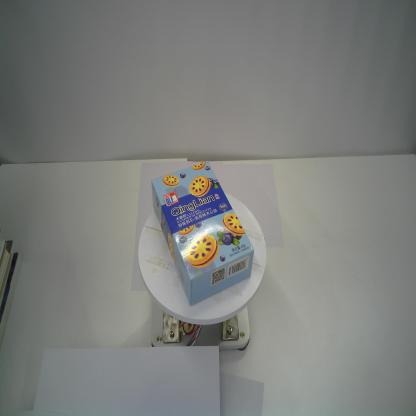Dessert: (151, 159, 254, 308)
